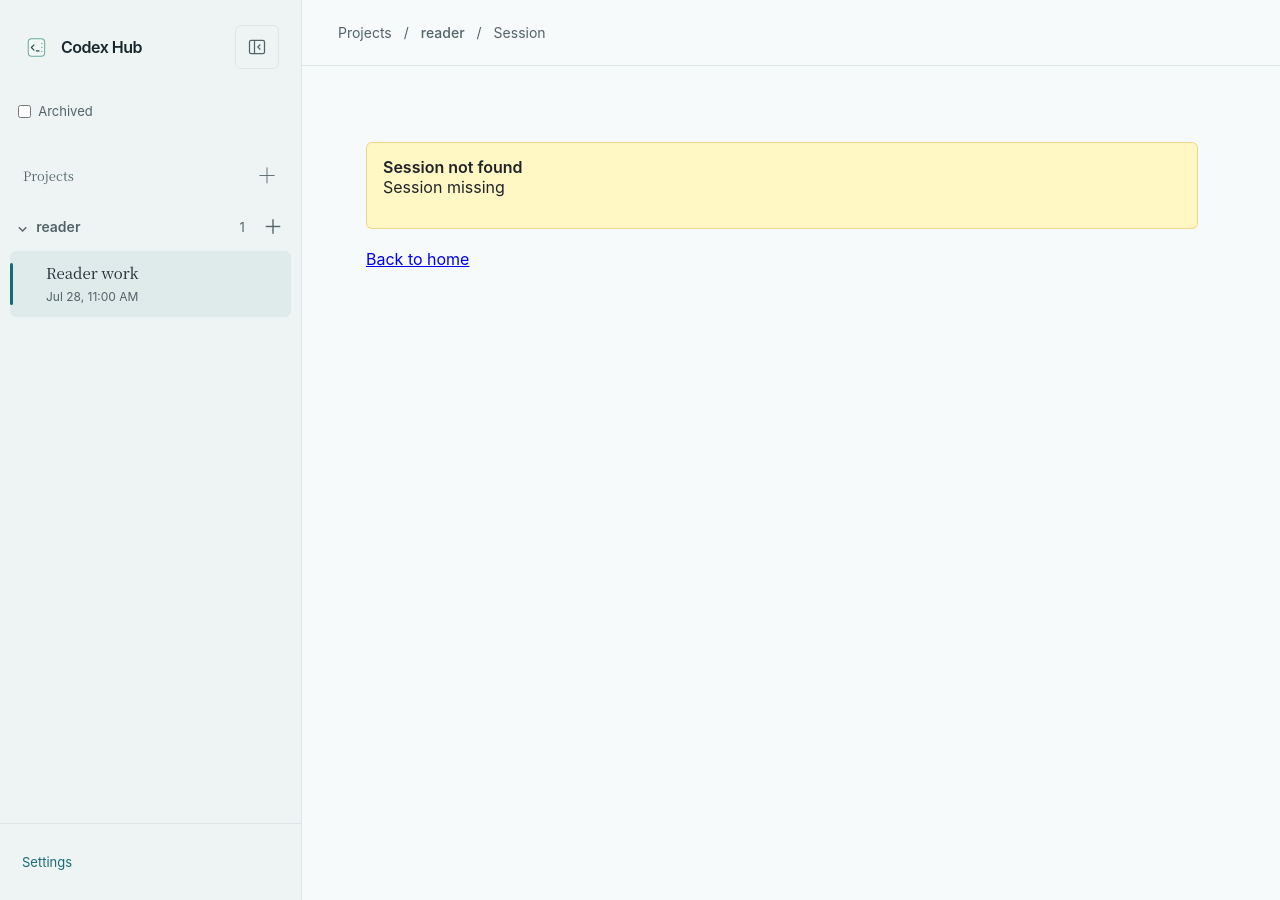
Test: unified hub › offers a home link below a missing session error without redirecting automatically
Expected: the message shows "Session not found", [383,157,523,177]
Click the link "Back to home": (418, 259) [366,249,470,269]
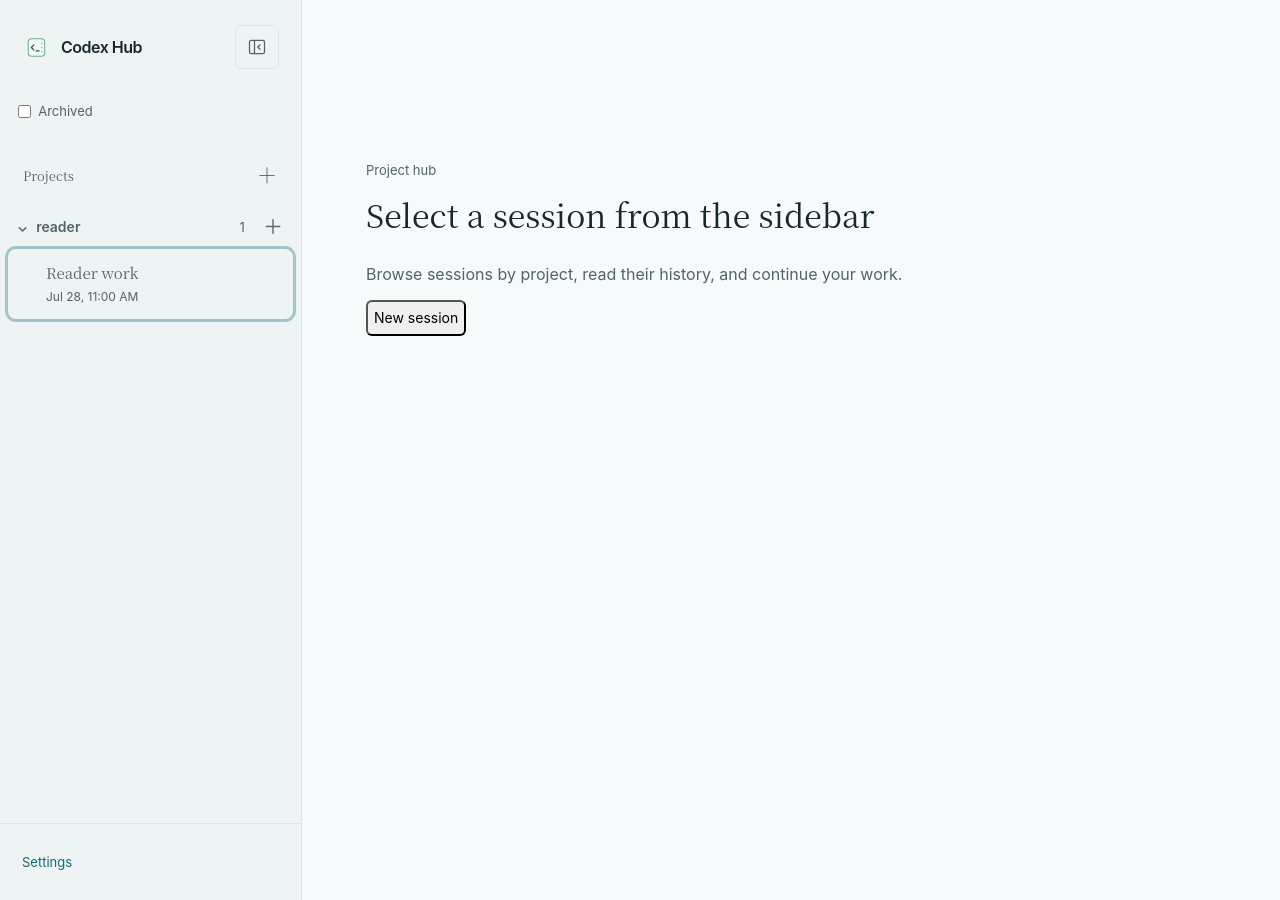
Expected: the heading "Select a session from the sidebar" is shown, [366,191,874,237]
